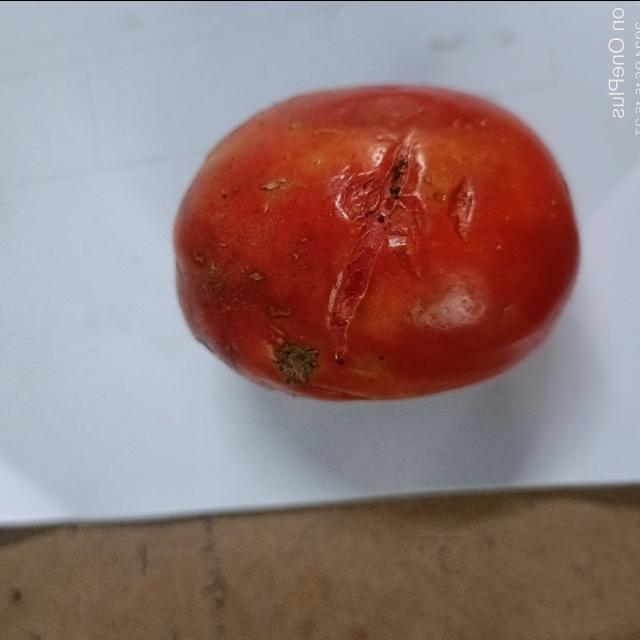Botrytis: (325, 134, 417, 364), (272, 334, 318, 390)
